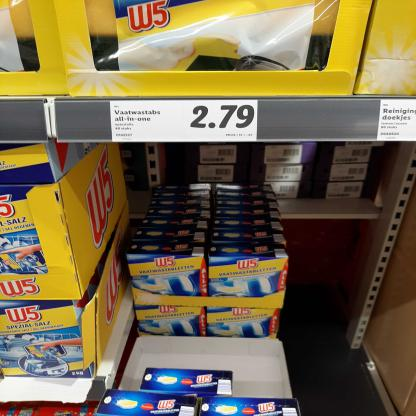prtg: (111, 101, 259, 143)
